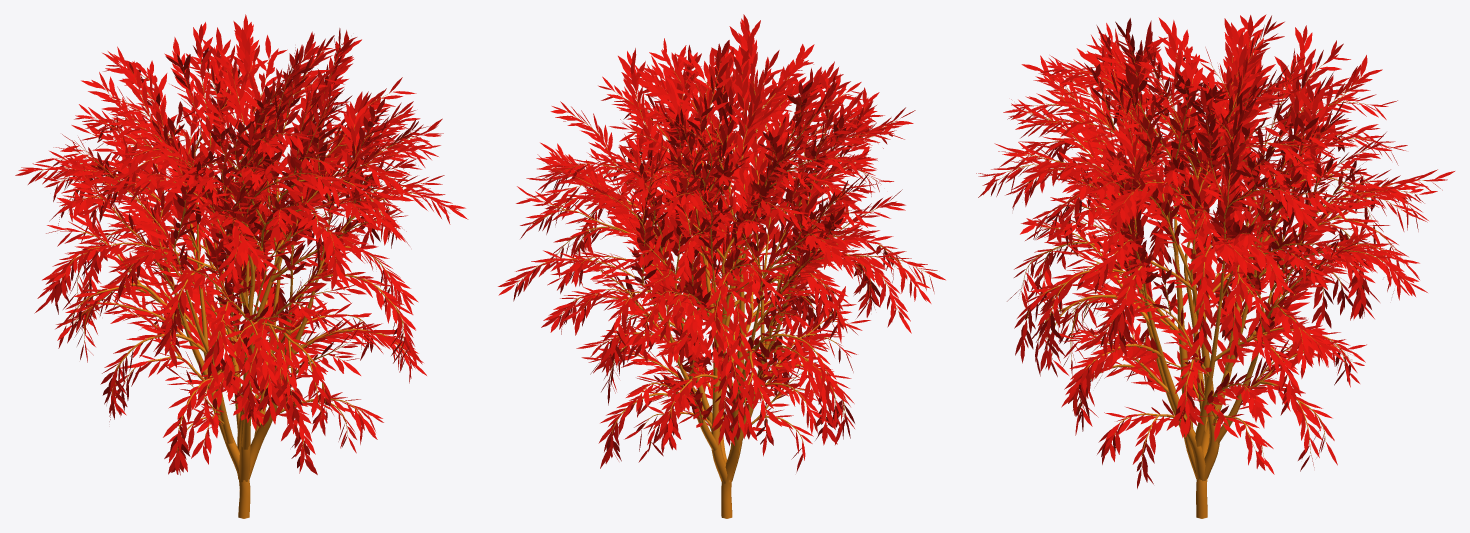
Rendered from Arvore1.fbx.
3 renders of one model, left to right at view 1: azimuth 30°, elevation 25°; view 2: azimuth 150°, elevation 25°; view 3: azimuth 270°, elevation 25°, orthographic. The views are drawn at different scales.
Parts seen in each view (by area): view 1: leaves; view 2: leaves; view 3: leaves.
Boxes of the visible parts, x1,y1,x2,y2 form: leaves: (15, 14, 468, 518); leaves: (498, 14, 945, 518); leaves: (976, 14, 1454, 518).
Bounding box in the file's own units: 713 × 840 × 721.
